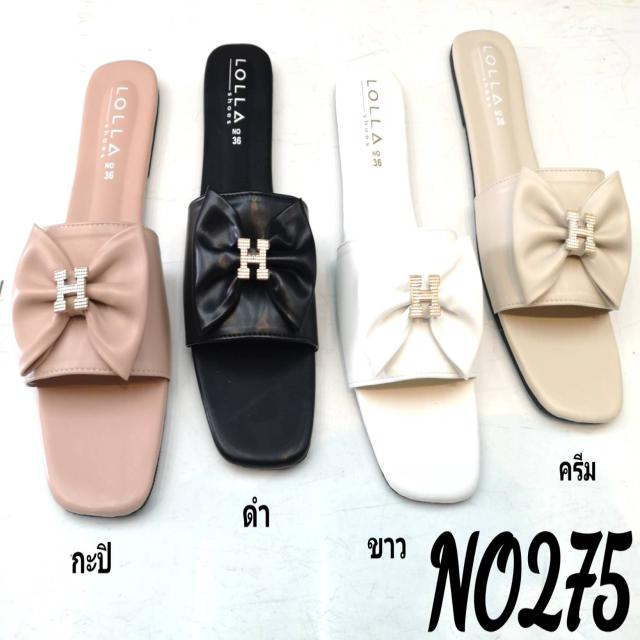black: (190, 41, 316, 468)
cream: (450, 26, 621, 424)
kapi: (42, 59, 168, 516)
white: (336, 67, 481, 501)
